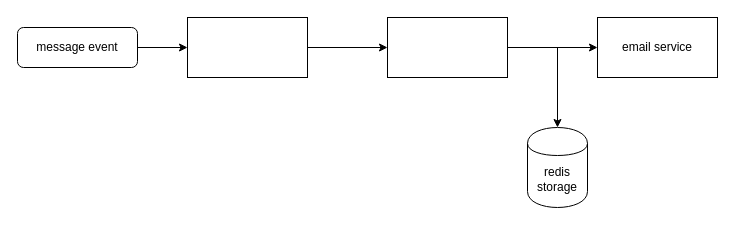
Image size: 735x225. Some labels were removed from this diagram. Each missing label, with the box of its shape:
message route: (186, 16, 308, 78)
message service: (386, 16, 508, 78)
